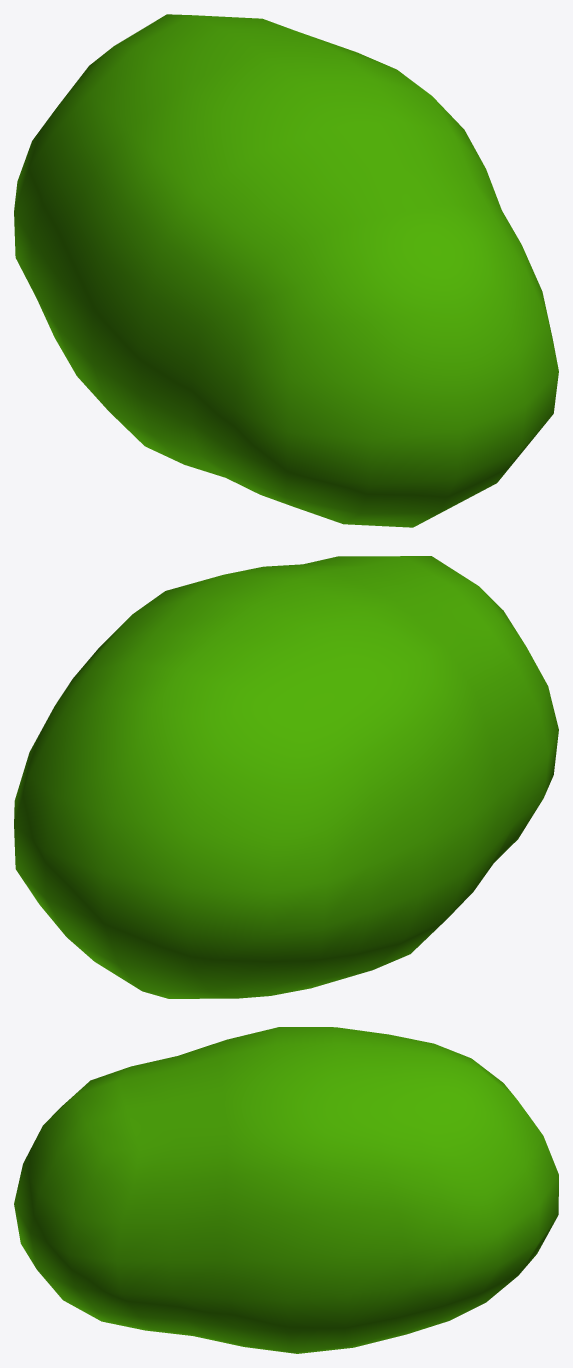
File: Potato.fbx
3 renders of one model, top to bottom at view 1: azimuth 30°, elevation 25°; view 2: azimuth 150°, elevation 25°; view 3: azimuth 270°, elevation 25°, orthographic. The views are drawn at different scales.
Parts seen in each view (by area): view 1: Potato; view 2: Potato; view 3: Potato.
Part boxes in pixels (x1,y1,x2,y2): Potato: [14, 14, 558, 527]; Potato: [14, 556, 558, 998]; Potato: [14, 1027, 558, 1353].
Bounding box in the file's own units: 37.09 × 35.72 × 60.2.
